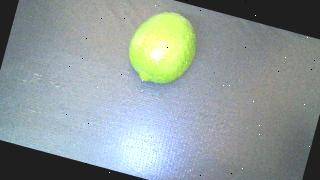EXPORTACION: (121, 4, 203, 92)
